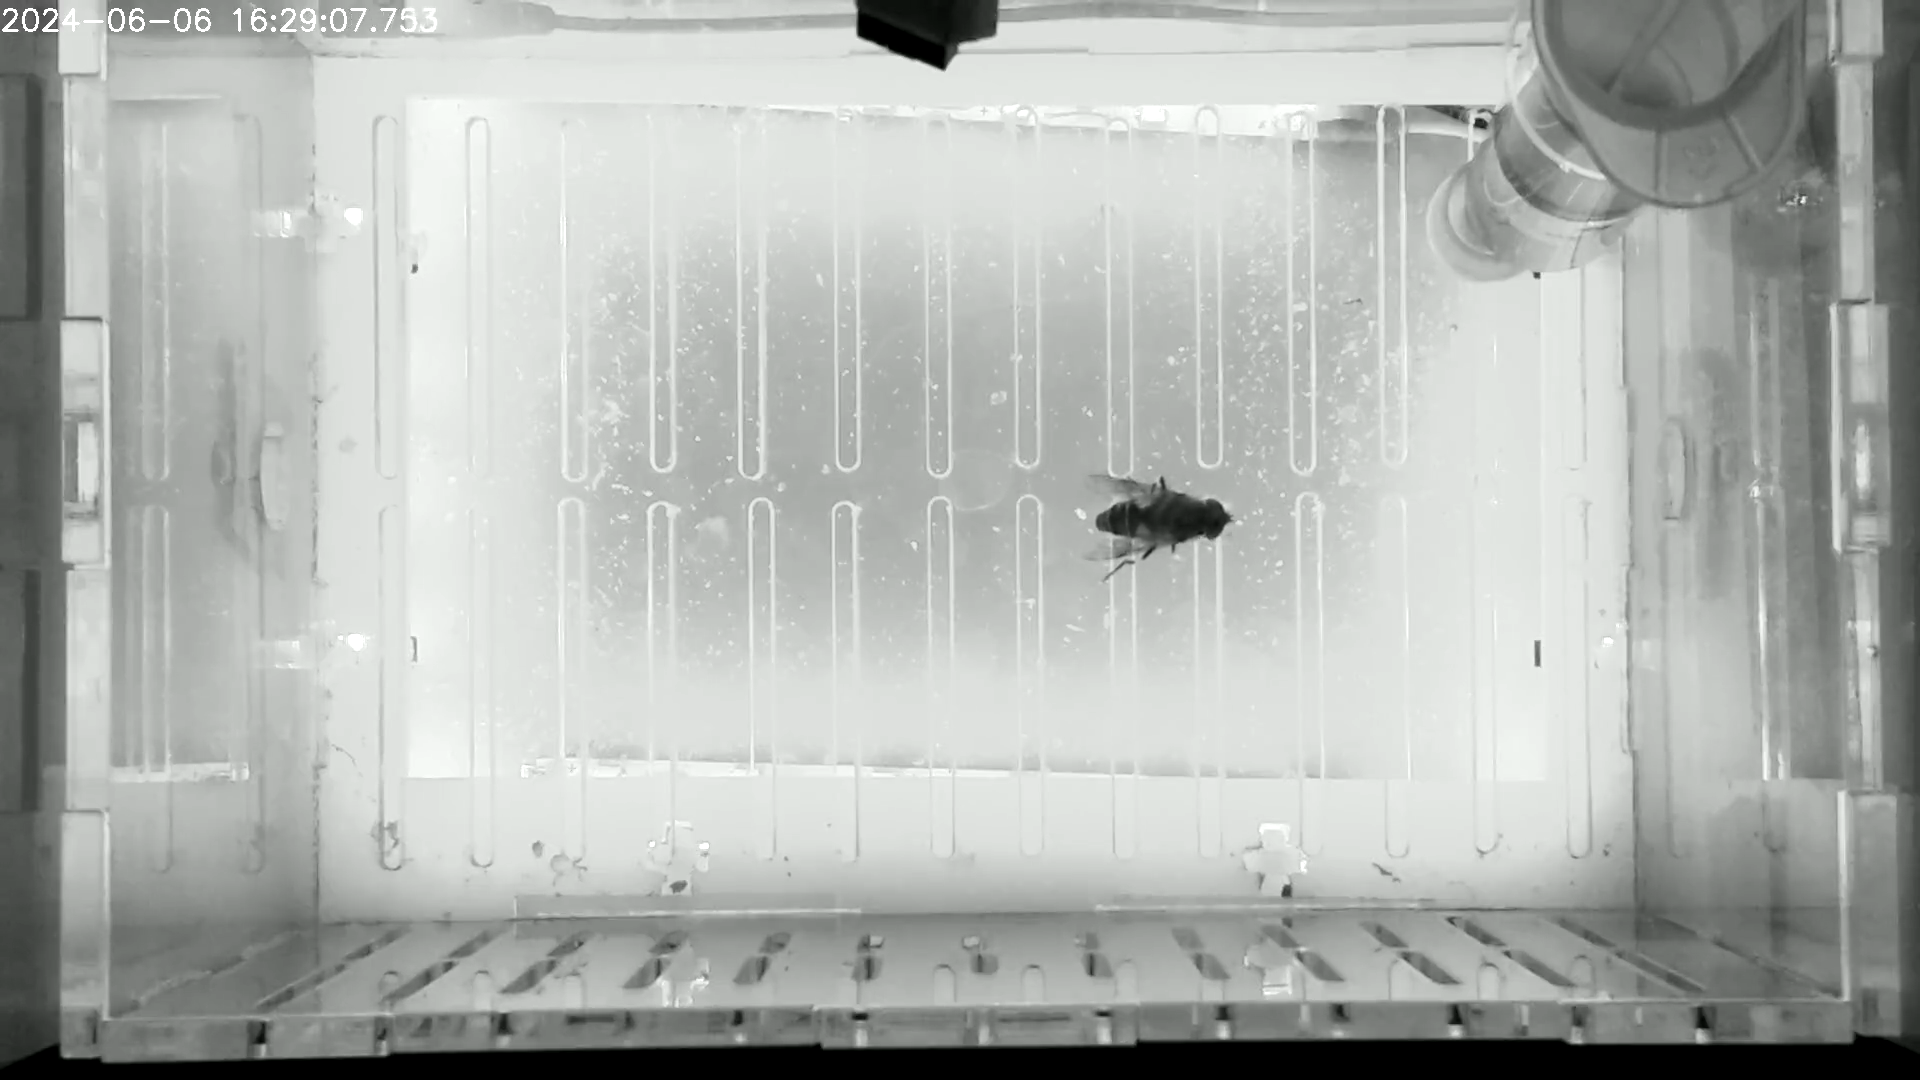bee: (1069, 466, 1238, 590)
feeder: (1456, 96, 1644, 280)
